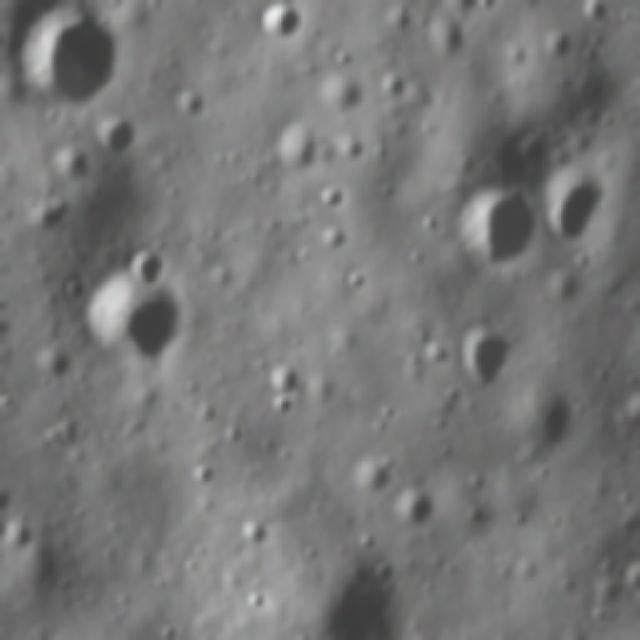crater: (14, 3, 123, 114), (77, 272, 188, 366), (298, 551, 407, 637), (445, 184, 541, 271), (532, 159, 608, 255), (504, 383, 585, 452), (452, 316, 525, 390), (272, 117, 326, 181), (416, 5, 472, 64), (92, 109, 145, 162), (49, 140, 100, 192), (316, 72, 369, 122), (388, 480, 438, 531), (40, 413, 91, 462), (252, 3, 308, 45), (28, 193, 74, 244), (346, 453, 396, 499), (257, 354, 308, 398), (124, 251, 173, 294), (513, 128, 559, 170), (314, 172, 352, 217), (262, 388, 309, 423), (234, 511, 274, 551), (374, 67, 412, 108), (537, 27, 577, 65), (313, 220, 350, 260), (36, 344, 72, 385), (420, 334, 457, 372), (177, 82, 208, 126), (338, 264, 373, 301), (331, 129, 366, 166), (0, 516, 32, 554), (188, 458, 223, 492), (499, 38, 533, 71), (327, 37, 356, 74), (244, 580, 273, 617), (576, 5, 613, 32), (414, 210, 440, 241), (466, 499, 492, 530), (157, 615, 188, 640), (405, 246, 426, 271)
